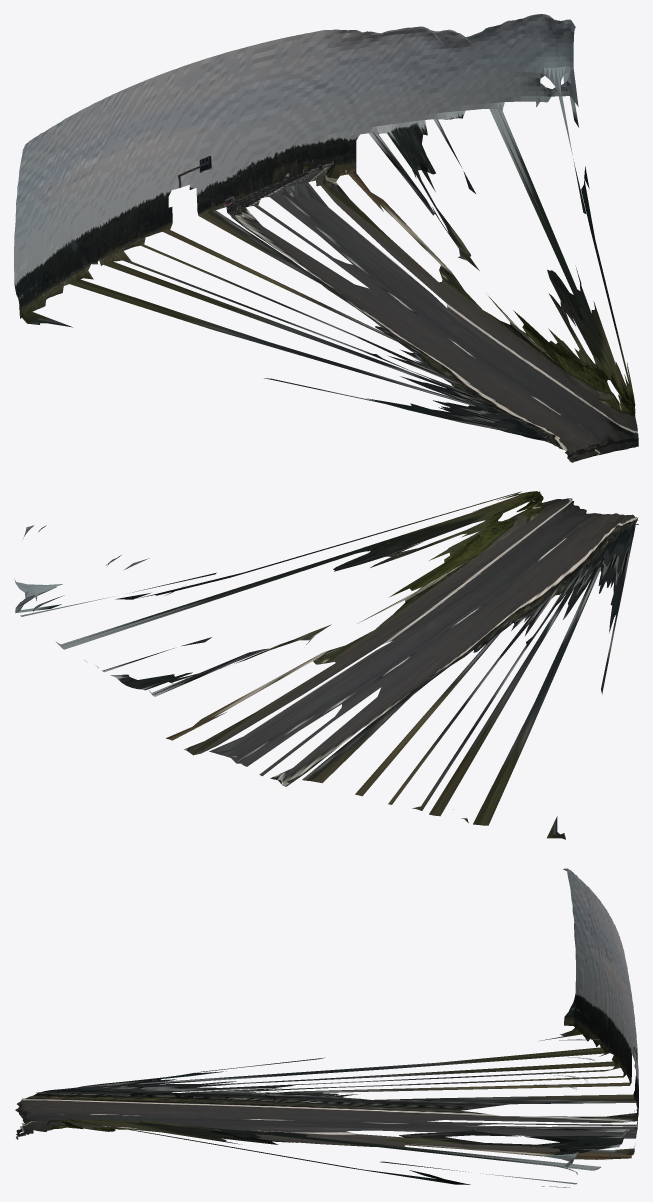
3 renders of one model, top to bottom at view 1: azimuth 30°, elevation 25°; view 2: azimuth 150°, elevation 25°; view 3: azimuth 270°, elevation 25°, orthographic. The views are drawn at different scales.
Visible parts, largest first — view 1: defaultobject; view 2: defaultobject; view 3: defaultobject.
Part boxes in pixels (left/top/right/bottom): defaultobject: left=14, top=14, right=638, bottom=462; defaultobject: left=14, top=491, right=638, bottom=839; defaultobject: left=15, top=868, right=638, bottom=1187.
Bounding box in the file's own units: 41 × 13.54 × 44.36.
1 material, 1 textured.
